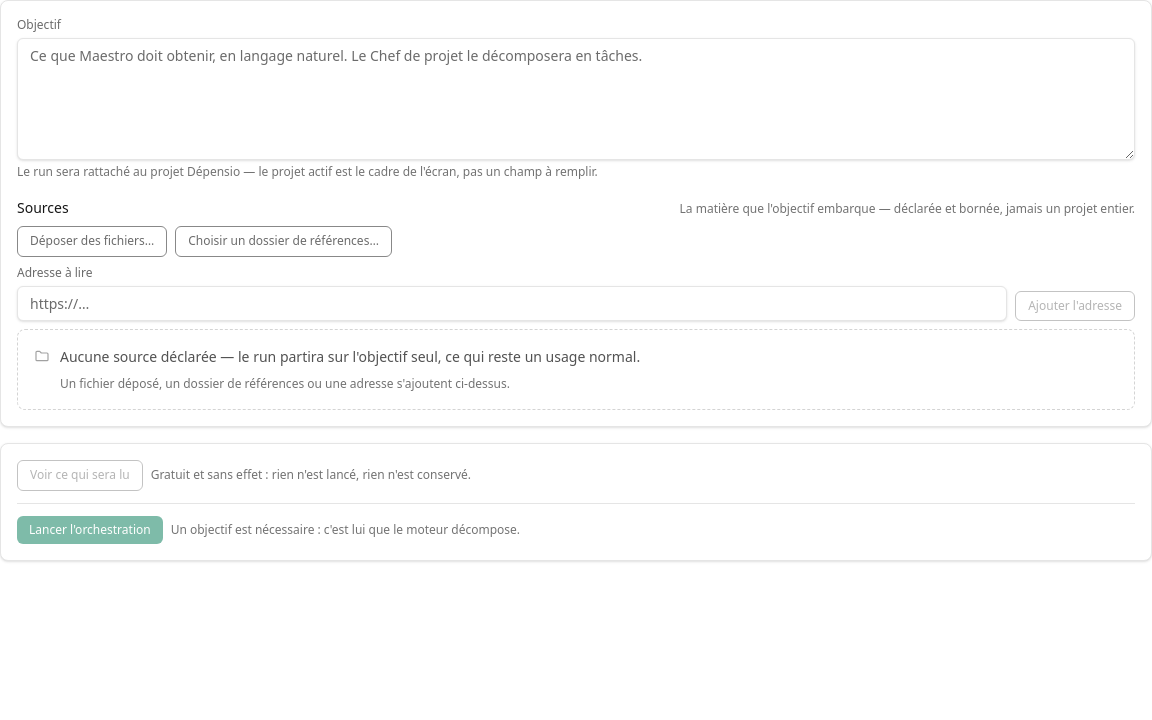
it: composer un objectif (#319) › prend le dossier de références dans l'explorateur, jamais dans une saisie
The width and height of the screenshot is (1152, 720).
Click the button "Choisir un dossier de références…".
click(284, 242)  # box [175, 226, 392, 257]
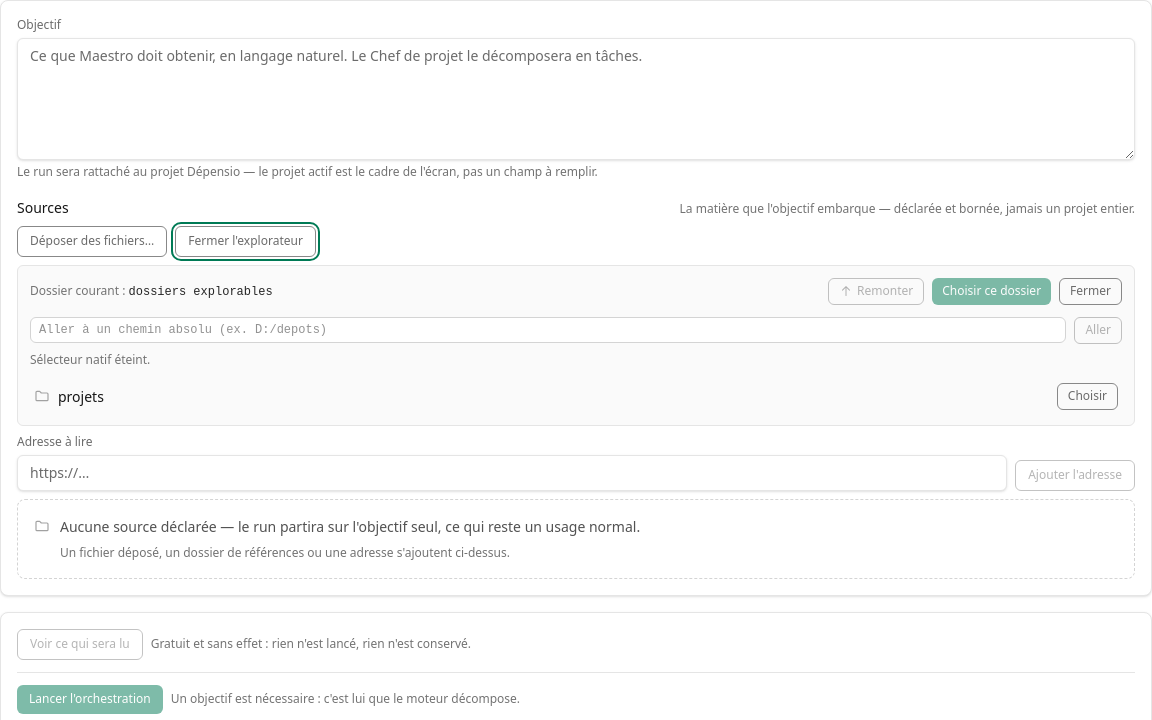
Click the button with aria-label "Choisir projets".
click(1087, 396)  # box [1057, 383, 1118, 410]
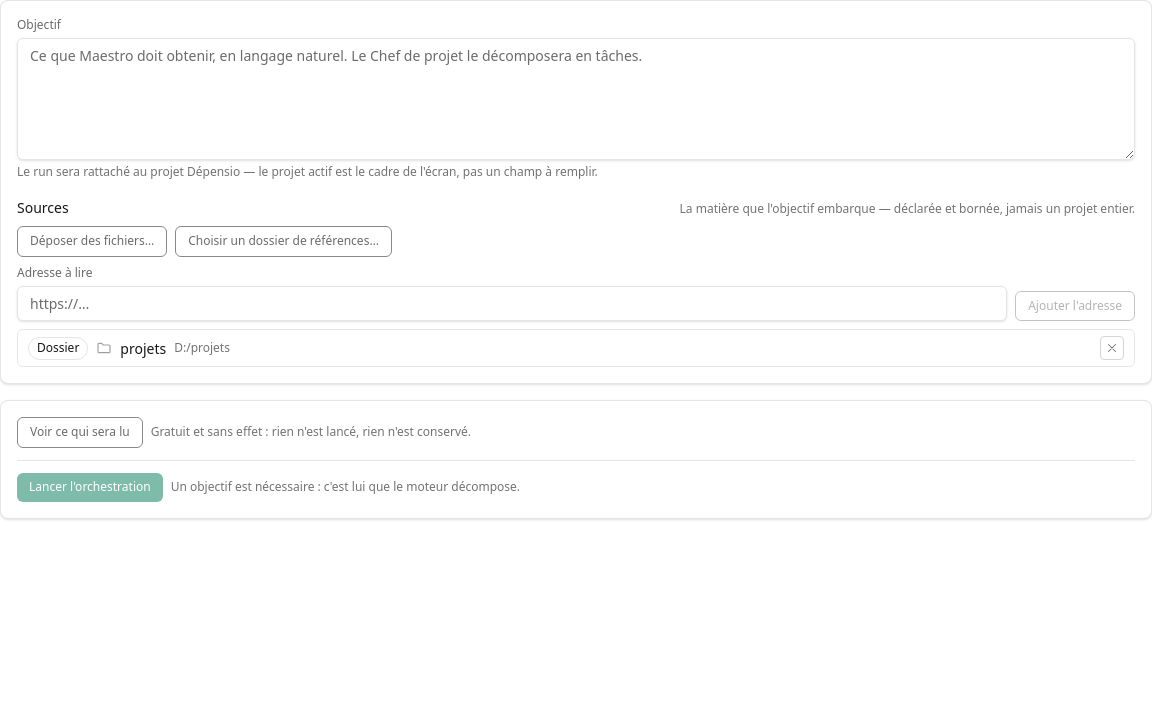
Now the text "projets" is shown, box [120, 338, 166, 359]
Now the text "D:/projets" is shown, box [174, 340, 230, 357]
